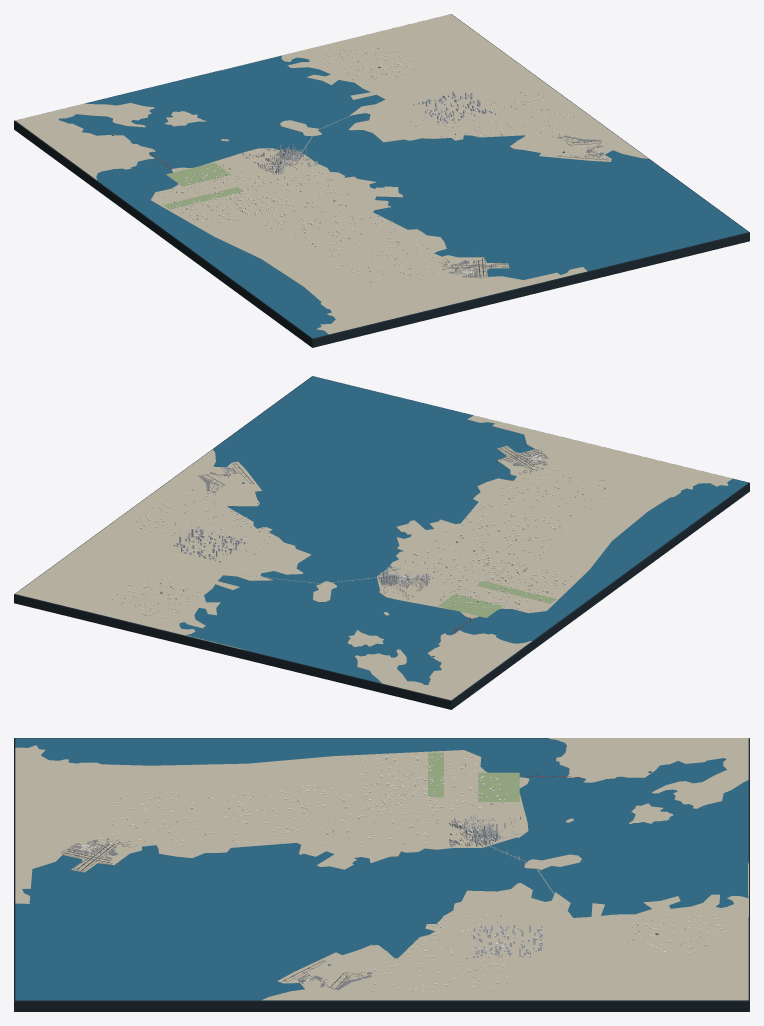
File: skyflow-diorama.glb
3 views of the same model, one above another, from view 1: azimuth 30°, elevation 25°; view 2: azimuth 150°, elevation 25°; view 3: azimuth 270°, elevation 25° (orthographic). The views are drawn at different scales.
Visible parts, largest first — view 1: water, land, plinth, parks, blocks_sf_west, blocks_oakland, blocks_sf_south, blocks_oak_flats, blocks_peninsula, sf_buildings_bldA; view 2: water, land, plinth, parks, blocks_sf_west, blocks_oakland, blocks_sf_south, blocks_oak_flats, blocks_peninsula; view 3: water, land, plinth, parks, blocks_sf_west, blocks_sf_south, blocks_oak_flats, blocks_oakland, blocks_peninsula, sf_buildings_bldA, taxiways, sf_buildings_bldB (+1 smaller).
Part boxes in pixels (x1=…): water: x1=23, y1=55, x2=748, y2=338; land: x1=15, y1=14, x2=648, y2=334; plinth: x1=14, y1=14, x2=749, y2=347; parks: x1=163, y1=162, x2=243, y2=209; blocks_sf_west: x1=159, y1=162, x2=293, y2=226; blocks_oakland: x1=413, y1=90, x2=492, y2=123; blocks_sf_south: x1=221, y1=169, x2=379, y2=238; blocks_oak_flats: x1=411, y1=89, x2=589, y2=148; blocks_peninsula: x1=304, y1=220, x2=451, y2=286; sf_buildings_bldA: x1=242, y1=148, x2=316, y2=174; water: x1=16, y1=376, x2=748, y2=700; land: x1=15, y1=415, x2=732, y2=700; plinth: x1=14, y1=376, x2=749, y2=709; parks: x1=438, y1=581, x2=556, y2=617; blocks_sf_west: x1=426, y1=556, x2=572, y2=610; blocks_oakland: x1=173, y1=528, x2=245, y2=562; blocks_sf_south: x1=401, y1=517, x2=558, y2=588; blocks_oak_flats: x1=128, y1=485, x2=278, y2=554; blocks_peninsula: x1=470, y1=466, x2=605, y2=536; water: x1=15, y1=738, x2=748, y2=1000; land: x1=15, y1=738, x2=748, y2=1000; plinth: x1=14, y1=738, x2=749, y2=1011; parks: x1=428, y1=752, x2=519, y2=801; blocks_sf_west: x1=358, y1=756, x2=507, y2=814; blocks_sf_south: x1=278, y1=782, x2=438, y2=844; blocks_oak_flats: x1=371, y1=914, x2=507, y2=992; blocks_oakland: x1=473, y1=924, x2=542, y2=957; blocks_peninsula: x1=95, y1=791, x2=276, y2=845; sf_buildings_bldA: x1=449, y1=816, x2=520, y2=846; taxiways: x1=61, y1=839, x2=370, y2=989; sf_buildings_bldB: x1=450, y1=814, x2=515, y2=847.
Bounding box in the file's own units: 3005 × 143 × 3550.
Materials: 26 (1 with a texture image).
